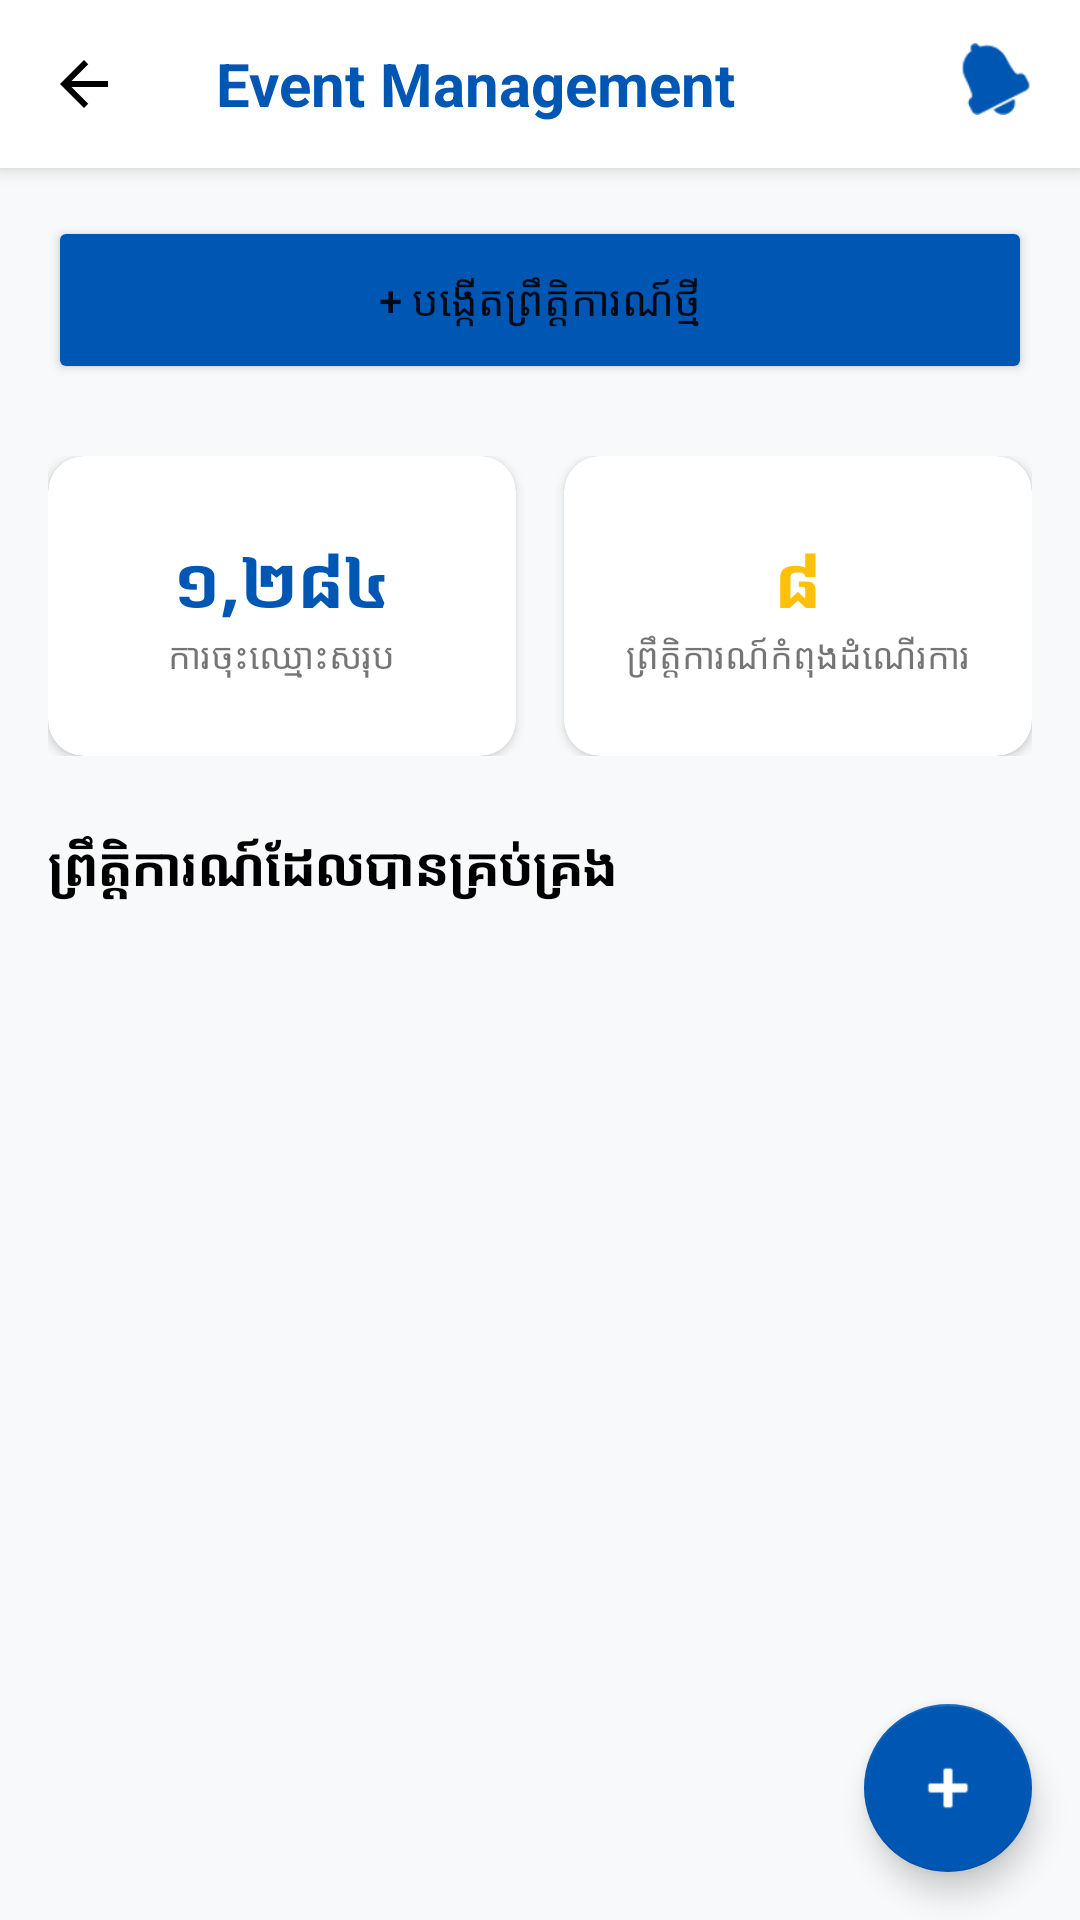

Where to tap for icons on this 1080×1920 app screen, as point (x, y):
ការជូនដំណឹង: point (996, 79)
បង្កើតព្រឹត្តិការណ៍: point (948, 1788)
